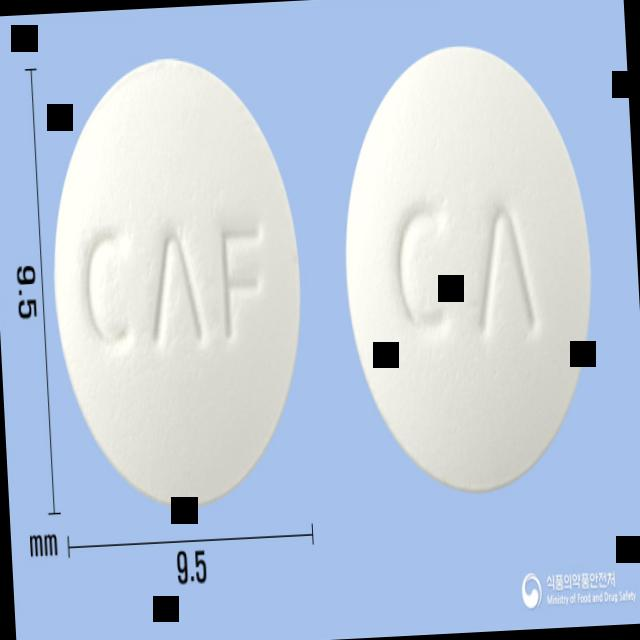Auscle - 500mg: (43, 51, 312, 514), (335, 37, 603, 500)
